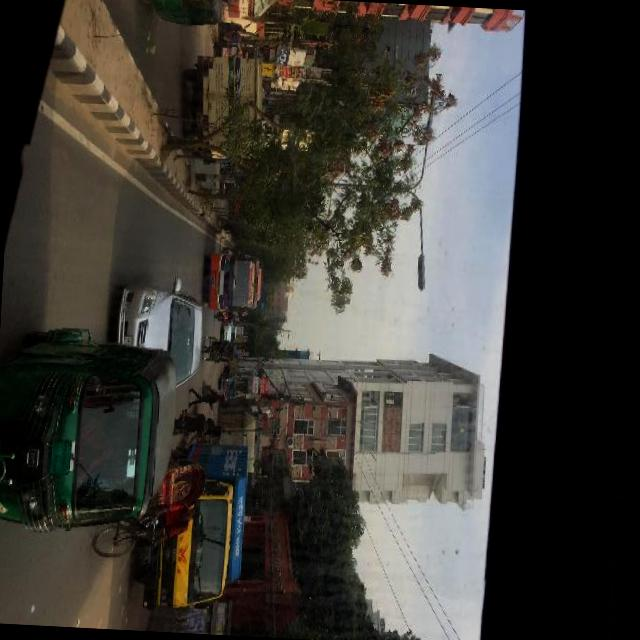bus: (208, 251, 262, 312)
car: (108, 281, 205, 386), (220, 372, 236, 399), (221, 320, 237, 342)
motorcycle: (0, 324, 180, 539), (92, 451, 208, 565), (133, 0, 222, 27), (202, 336, 230, 360), (213, 310, 230, 320), (220, 245, 233, 252)
truck: (142, 440, 250, 612), (185, 52, 263, 164)
